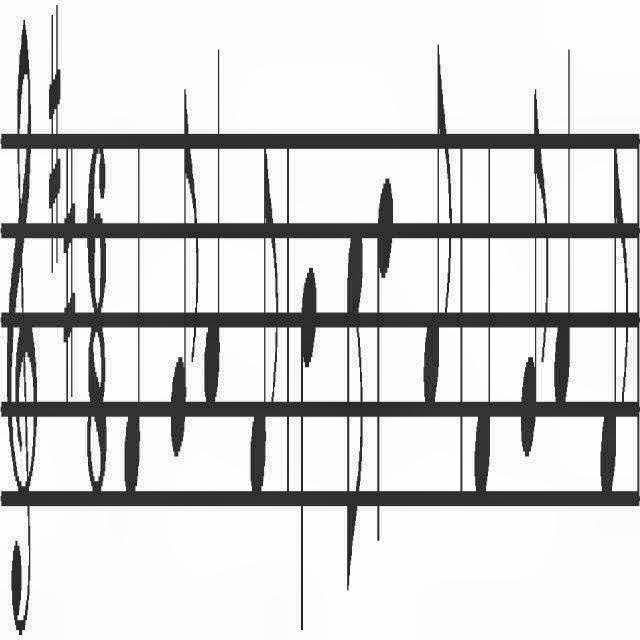Bass-clef: (6, 12, 38, 640)
Diez: (48, 2, 62, 278), (64, 137, 76, 409)
Eighth-note: (422, 33, 453, 411), (169, 76, 199, 460), (249, 143, 279, 502), (520, 80, 548, 460), (600, 142, 628, 506), (345, 221, 363, 595)
Quarter-note: (203, 31, 223, 412), (298, 255, 317, 640), (473, 128, 492, 508), (376, 167, 394, 545), (124, 138, 142, 507), (554, 39, 570, 420)
